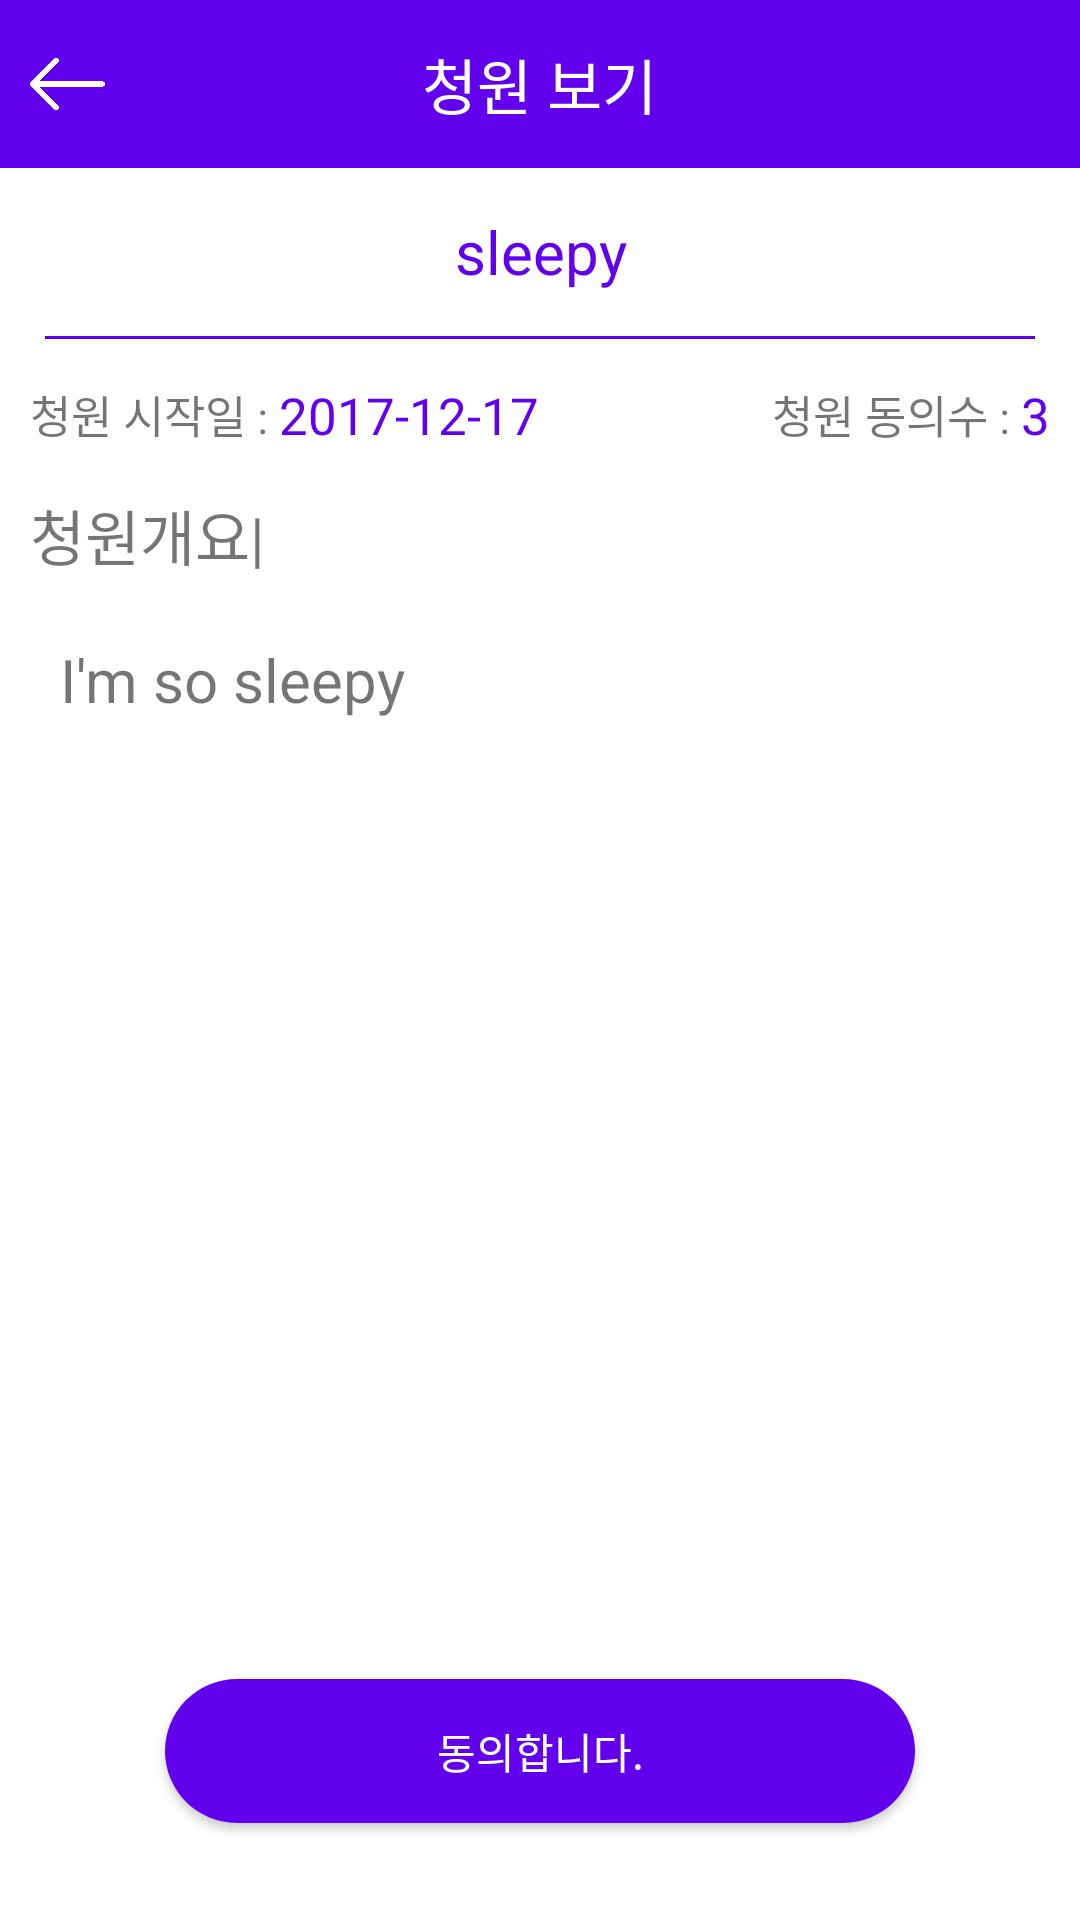

Icons on this 1080 × 1920 Android screen, each with its box as box=[x1, y1, x2, y2]:
back: box=[30, 58, 105, 110]
